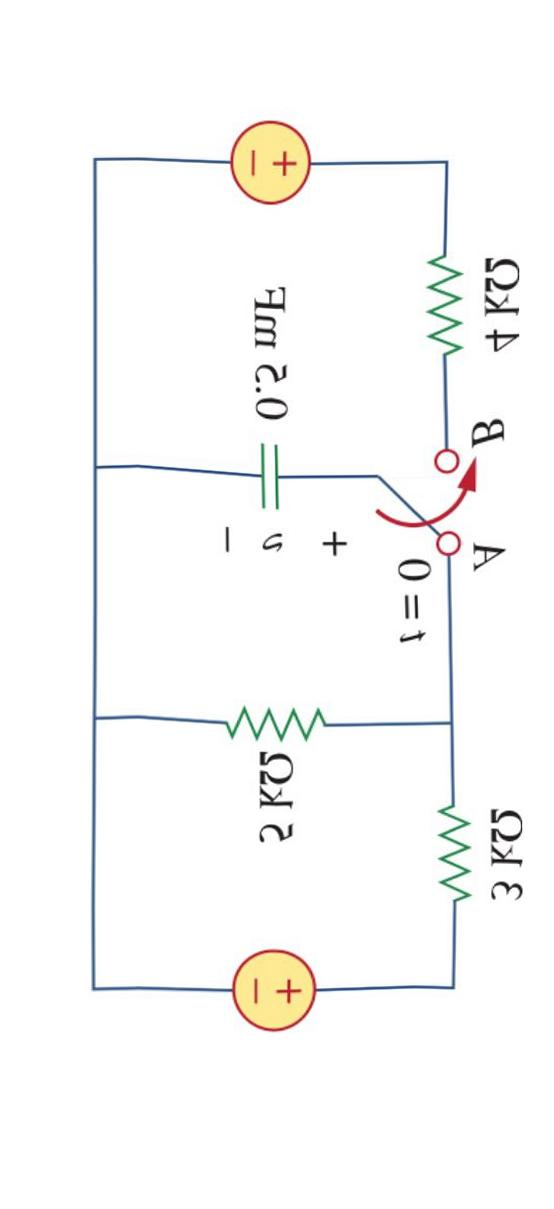Battery: (197, 92, 341, 233)
